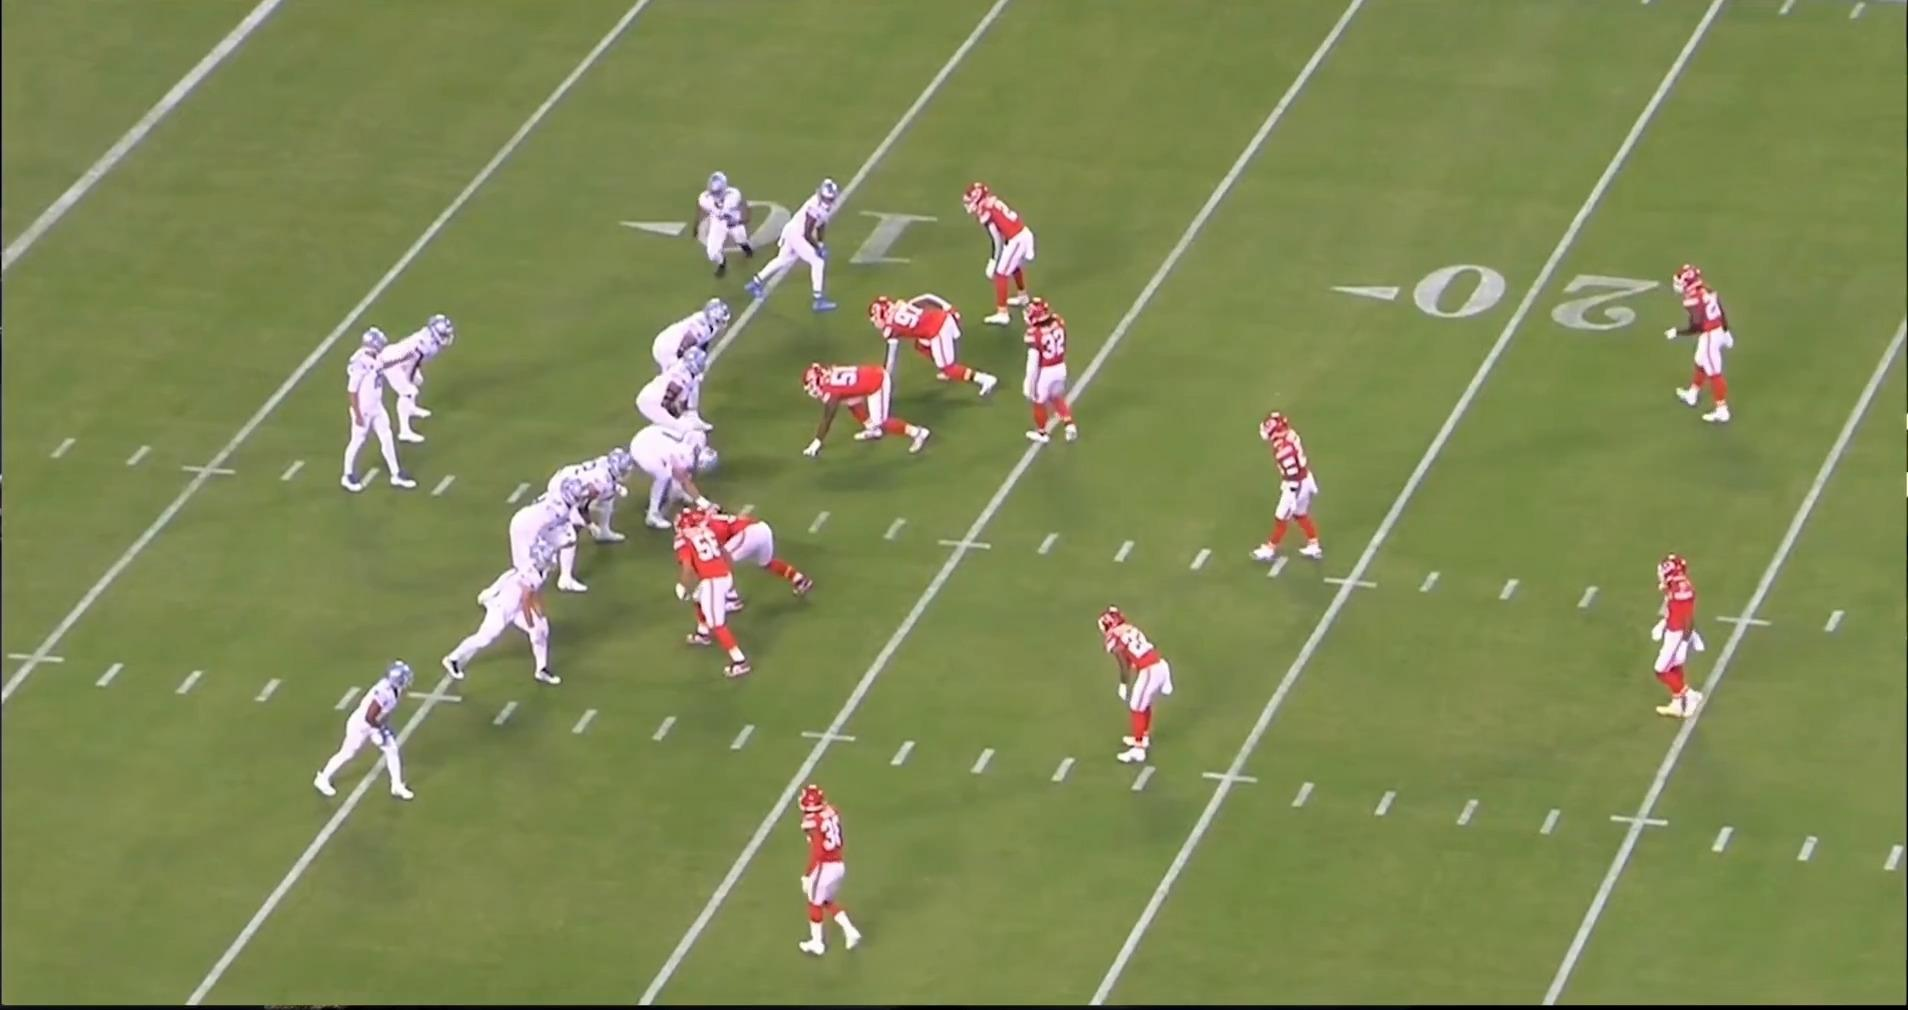defense: (683, 505, 821, 612), (866, 288, 1001, 396), (789, 785, 869, 966), (679, 511, 761, 682), (794, 359, 931, 457), (1090, 601, 1169, 770), (1254, 412, 1331, 573), (1642, 544, 1707, 723), (968, 177, 1044, 331), (1672, 265, 1739, 436), (1023, 293, 1086, 452)
oline: (481, 475, 589, 609), (625, 418, 721, 538), (541, 444, 632, 566), (657, 295, 741, 425), (641, 348, 724, 458)
qb: (327, 331, 415, 502)
skill: (447, 544, 573, 691), (315, 654, 432, 808), (743, 175, 853, 316), (379, 313, 454, 448), (686, 162, 763, 283)
